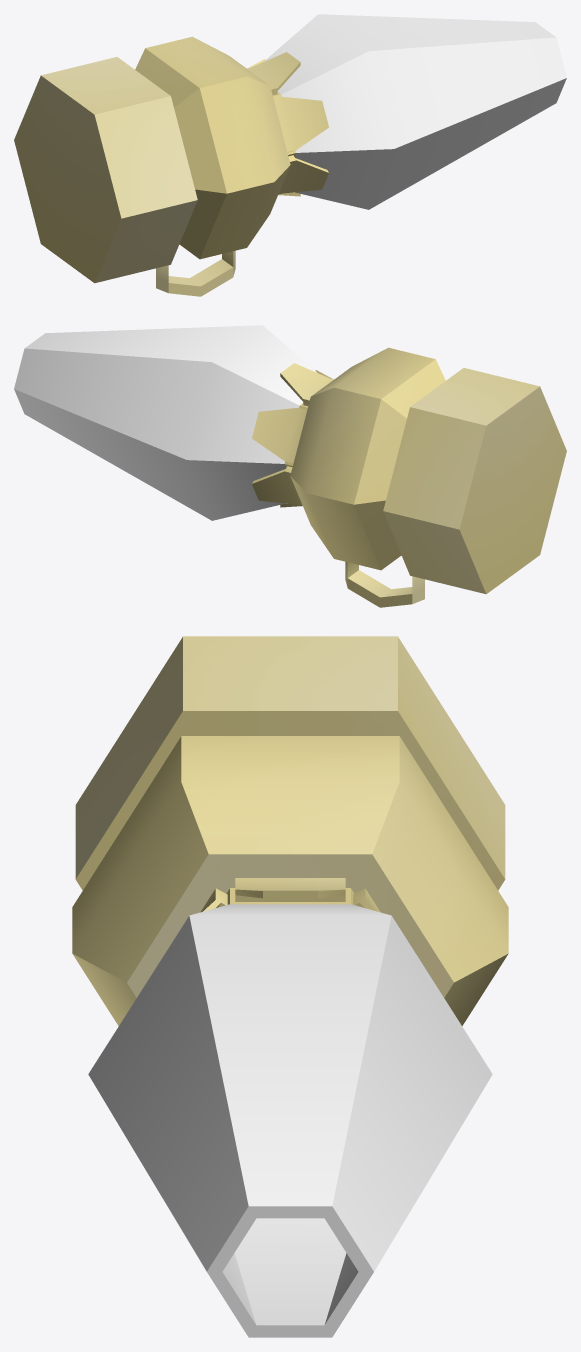
File: lampara.fbx
3 views of the same model, one above another, from view 1: azimuth 30°, elevation 25°; view 2: azimuth 150°, elevation 25°; view 3: azimuth 270°, elevation 25° (orthographic). The views are drawn at different scales.
Parts seen in each view (by area): view 1: Mesh, Mesh (2); view 2: Mesh, Mesh (2); view 3: Mesh, Mesh (2).
Boxes of the visible parts, <box> form: Mesh: <box>14,36,328,296</box>; Mesh (2): <box>264,14,566,209</box>; Mesh: <box>252,347,566,607</box>; Mesh (2): <box>14,325,316,520</box>; Mesh: <box>72,636,508,1025</box>; Mesh (2): <box>88,904,492,1337</box>.
Size of the model in its own units: 54.47 by 25.04 by 21.52.
